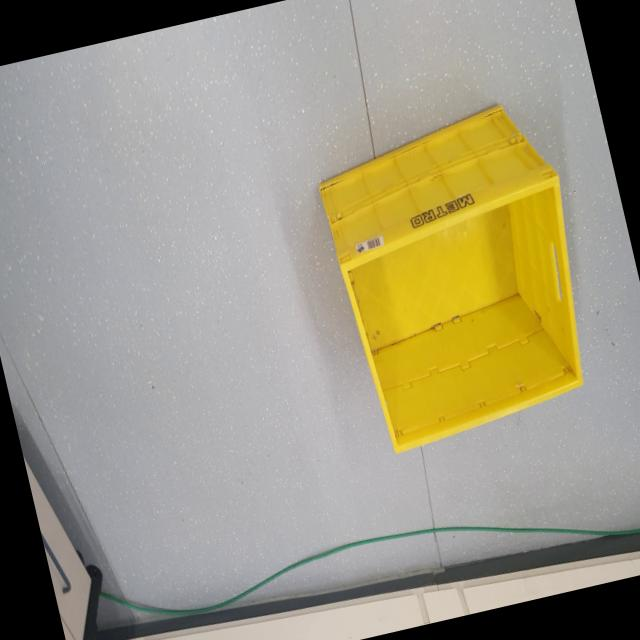box: (292, 92, 619, 470)
